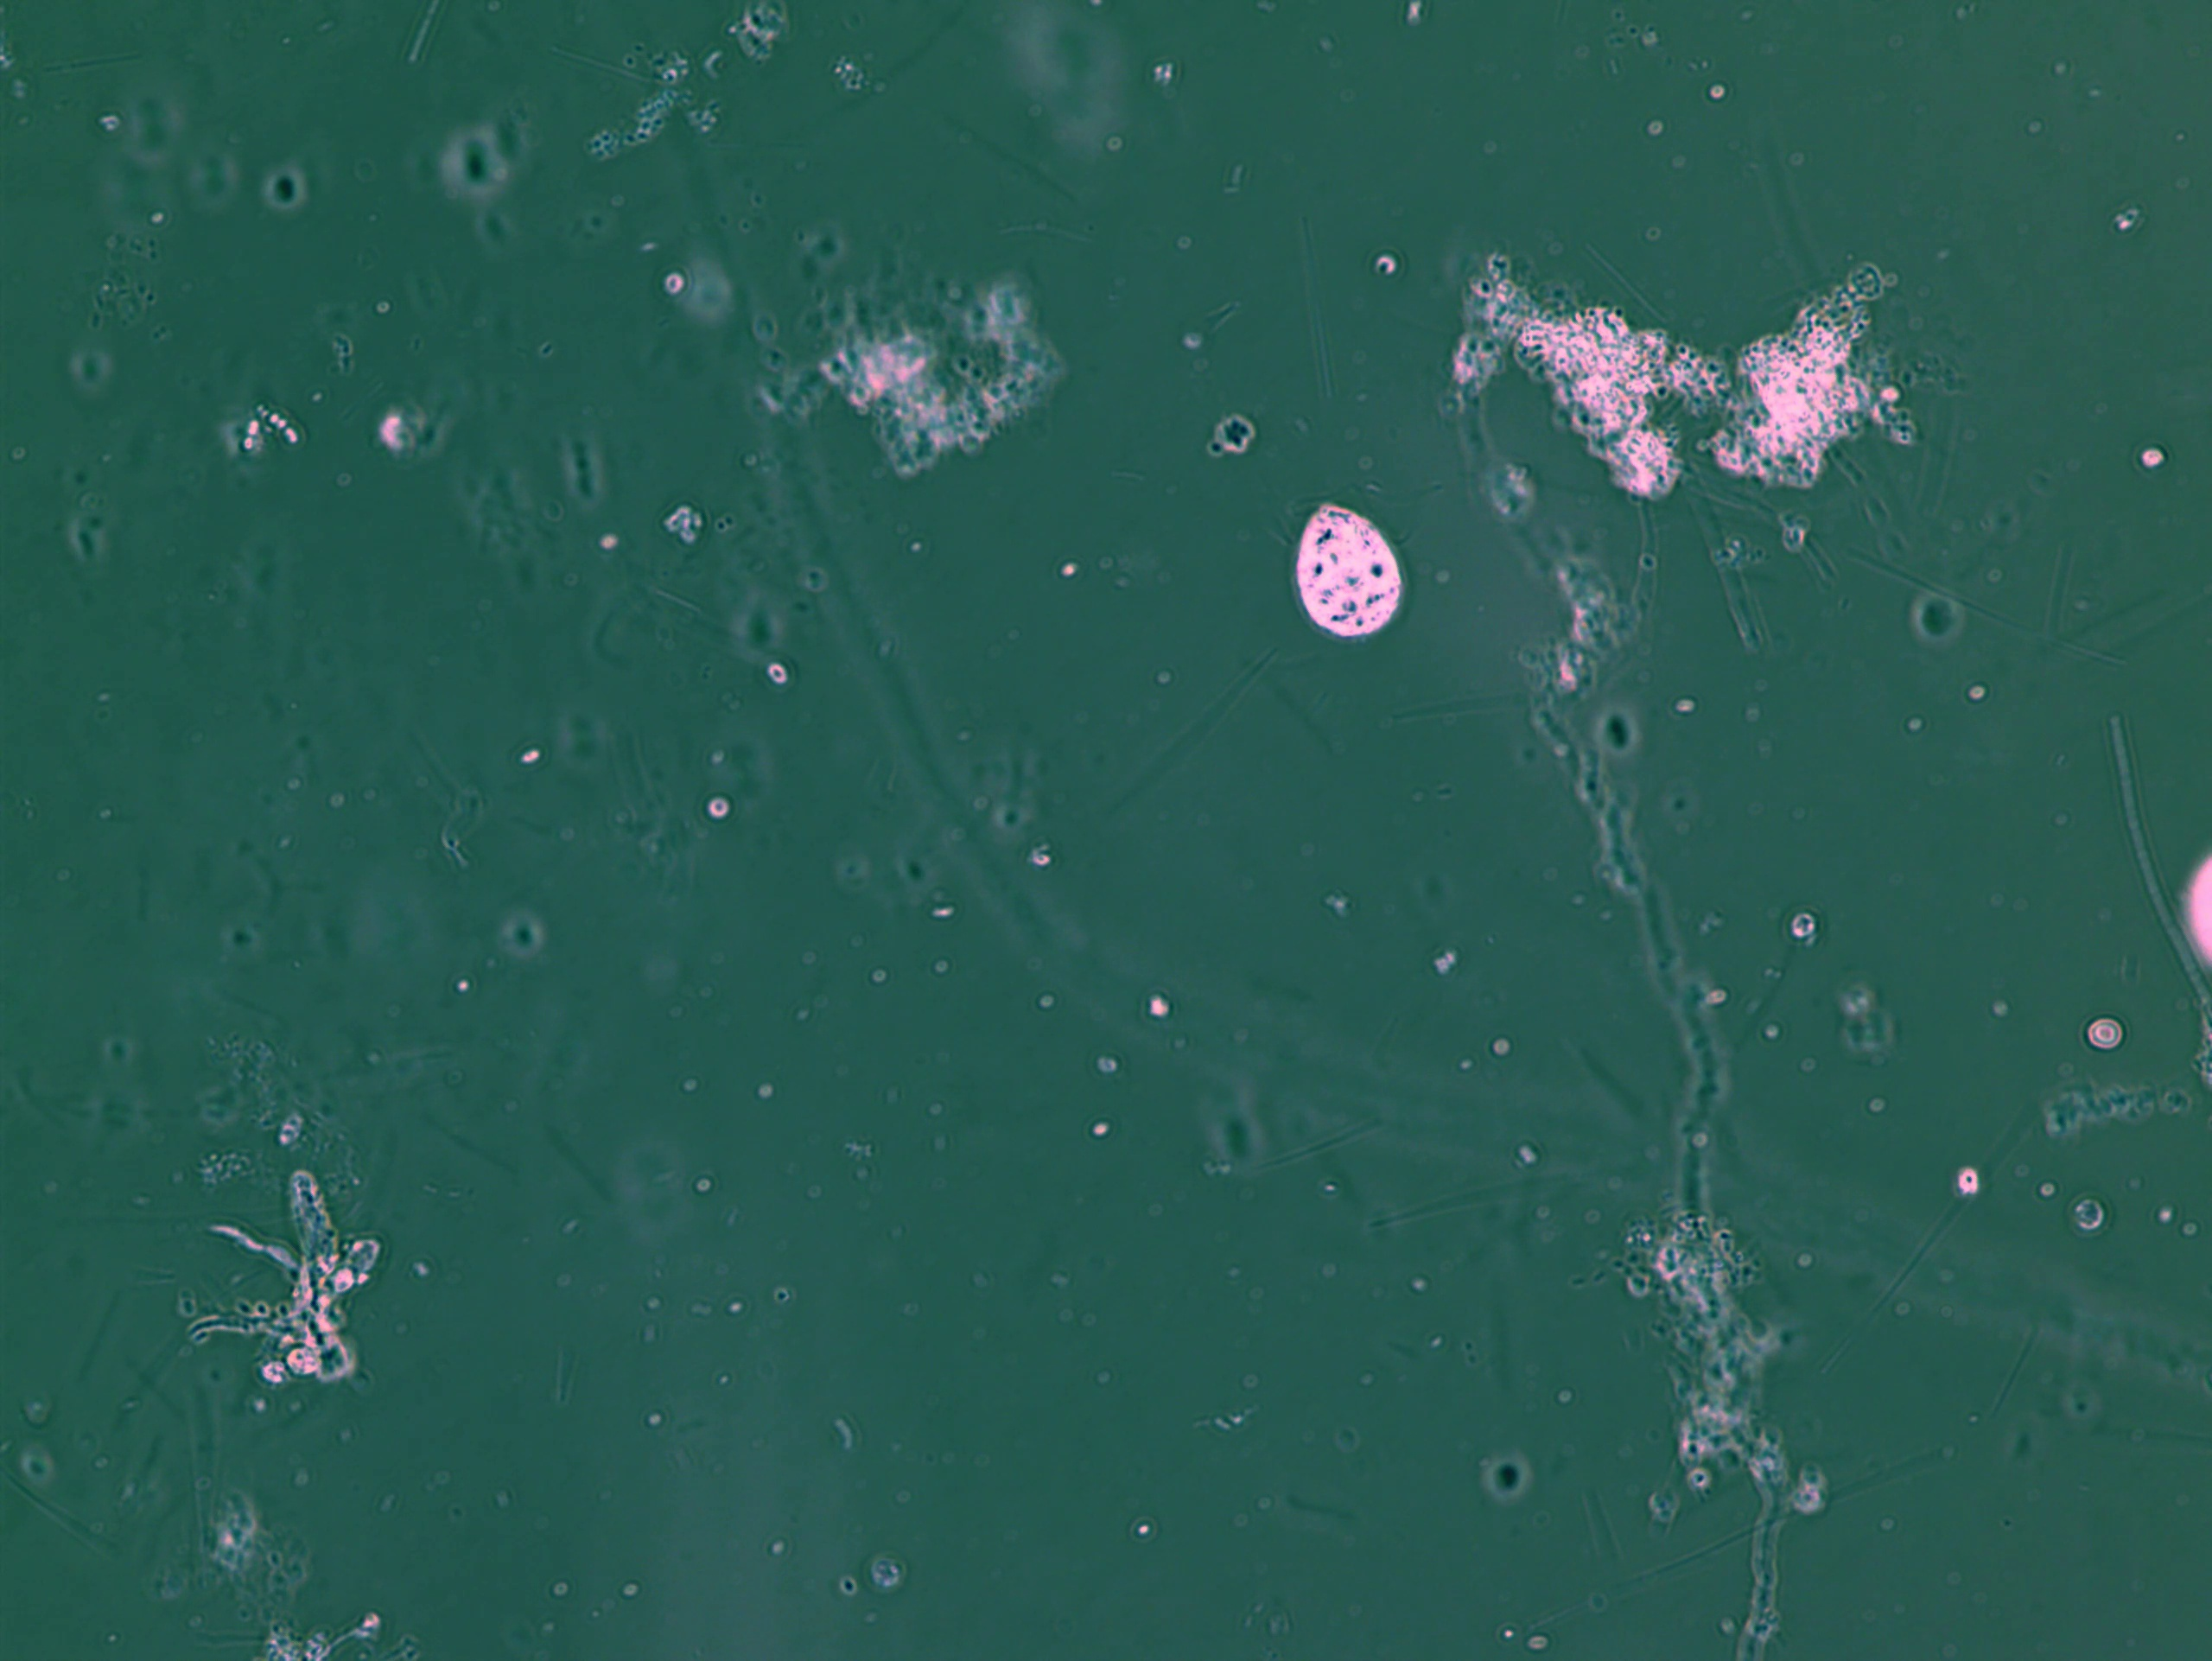depth:0: (1256, 466, 1429, 665)
